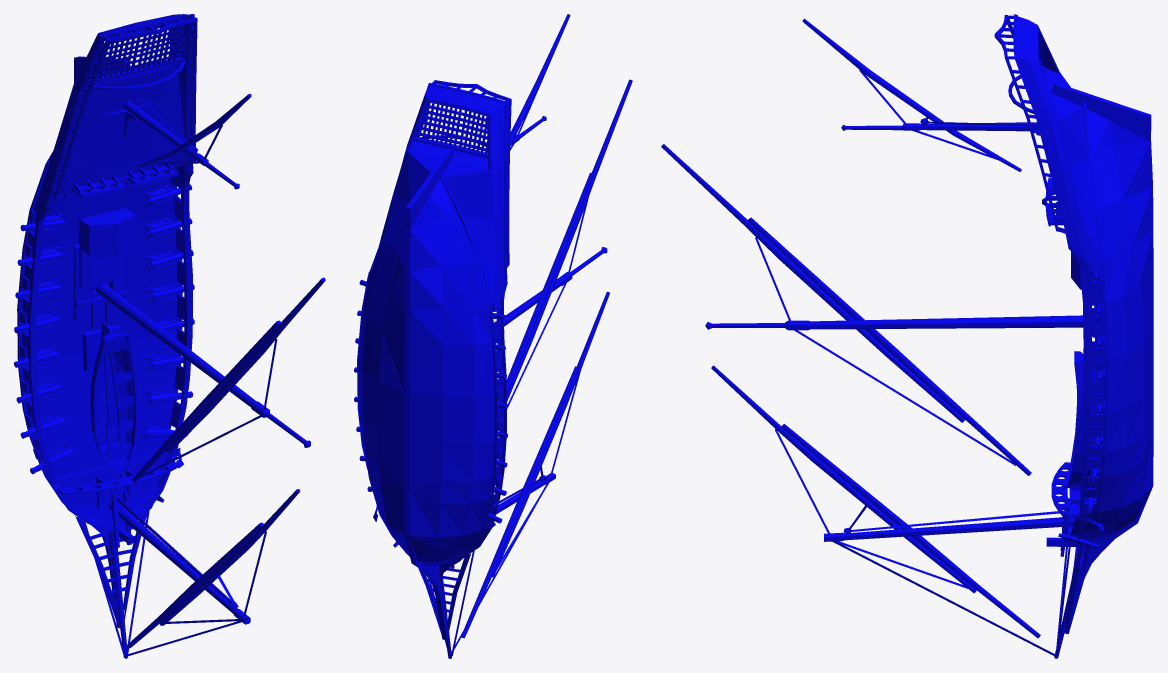
File: xebec.obj
3 renders of one model, left to right at view 1: azimuth 30°, elevation 25°; view 2: azimuth 150°, elevation 25°; view 3: azimuth 270°, elevation 25°, orthographic. The views are drawn at different scales.
Parts seen in each view (by area): view 1: Object; view 2: Object; view 3: Object.
Part boxes in pixels (x1,y1,x2,y2): Object: [14, 14, 325, 658]; Object: [354, 14, 632, 658]; Object: [661, 14, 1153, 658].
Size of the model in its own units: 3.9 by 13.86 by 9.71.
